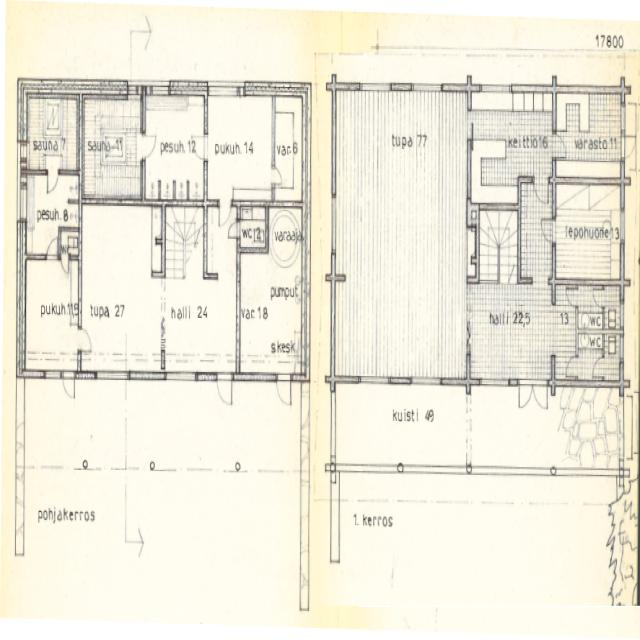door: (516, 375, 551, 415), (216, 370, 234, 410), (532, 174, 552, 208), (275, 372, 293, 409), (190, 131, 210, 163), (540, 216, 558, 247), (140, 130, 158, 160), (619, 131, 637, 161), (62, 369, 76, 403), (77, 326, 94, 354), (217, 199, 232, 228), (45, 168, 60, 195), (227, 220, 242, 242), (270, 164, 284, 187), (46, 236, 59, 260), (60, 256, 70, 277)
window: (327, 92, 341, 209), (619, 388, 630, 469), (328, 185, 339, 263), (631, 386, 640, 469), (408, 78, 445, 96), (208, 80, 242, 99), (477, 374, 512, 392), (464, 136, 474, 199), (408, 373, 443, 390), (95, 368, 129, 385), (357, 372, 391, 389), (358, 79, 394, 95), (165, 368, 198, 385), (128, 368, 159, 386), (618, 196, 628, 248), (619, 306, 627, 371), (146, 78, 170, 98), (618, 98, 629, 141), (17, 178, 27, 225), (44, 368, 62, 382)
zone: (80, 202, 162, 374), (467, 88, 555, 196), (237, 253, 306, 375), (467, 280, 551, 379), (205, 92, 274, 205), (554, 173, 623, 286), (161, 273, 238, 374), (142, 92, 206, 204), (558, 282, 624, 384), (23, 257, 80, 373), (82, 94, 143, 202), (555, 87, 625, 168), (560, 384, 624, 472), (23, 172, 81, 255), (23, 90, 78, 169), (469, 204, 519, 283), (274, 92, 306, 206), (239, 205, 268, 252), (59, 228, 81, 262)
